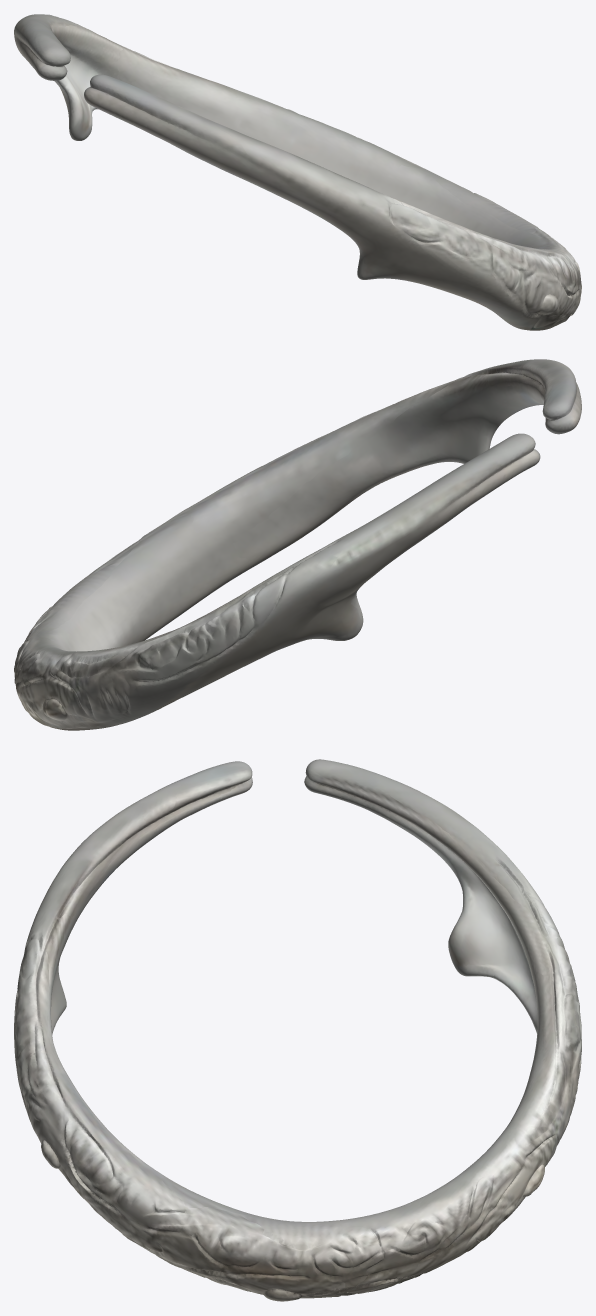
Rendered from phu_kien_8.glb.
3 views of the same model, one above another, from view 1: azimuth 30°, elevation 25°; view 2: azimuth 150°, elevation 25°; view 3: azimuth 270°, elevation 25° (orthographic). The views are drawn at different scales.
Parts seen in each view (by area): view 1: PhuKien_8; view 2: PhuKien_8; view 3: PhuKien_8.
Part boxes in pixels (x1,y1,x2,y2): PhuKien_8: (14, 14, 581, 330); PhuKien_8: (14, 359, 581, 730); PhuKien_8: (14, 759, 581, 1301).
Bounding box in the file's own units: 0.1795 × 0.1227 × 0.1897.
1 material, 1 textured.
